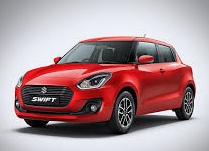car: (12, 34, 197, 137)
